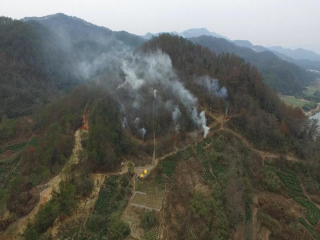smoke: (89, 42, 230, 140)
